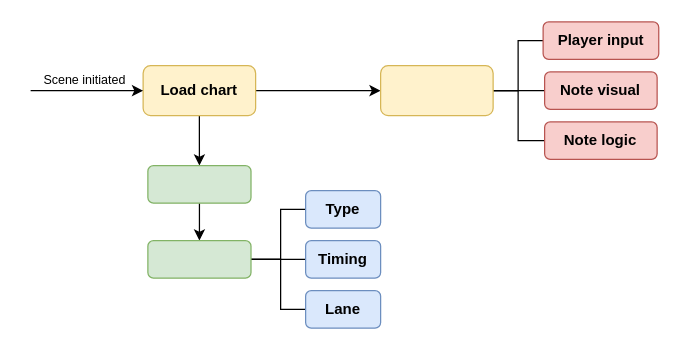
This 681x350 diagram has some shape labels left out. The centre of each missing label's shape, as x and y in pixels:
"Chart data" goes at pixel 199 183.
"Note data" goes at pixel 199 258.
"Run chart" goes at pixel 436 90.
